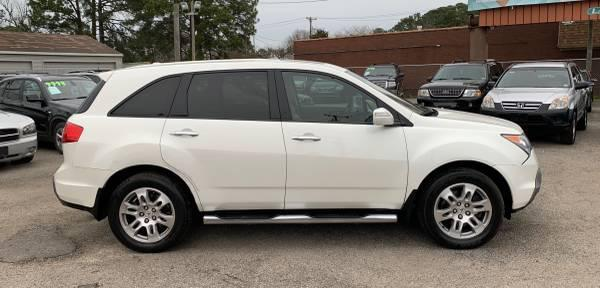Front_Bumper: (492, 146, 540, 215)
Front_Fender: (405, 125, 529, 201)
Front_Right_Door: (284, 122, 409, 213)
Front_Right_Window: (274, 70, 414, 127)
Hood: (417, 109, 524, 133)
Rear_Bumper: (54, 140, 115, 221)
Rear_Fender: (69, 73, 185, 170)
Rear_Right_Door: (160, 117, 287, 213)
Rear_Right_Window: (167, 69, 281, 120)
Right_Headlight: (499, 131, 531, 158)
Right_Taillight: (62, 119, 84, 141)
Roof: (84, 60, 424, 125)
Wheel: (421, 170, 503, 250), (110, 172, 188, 251)
